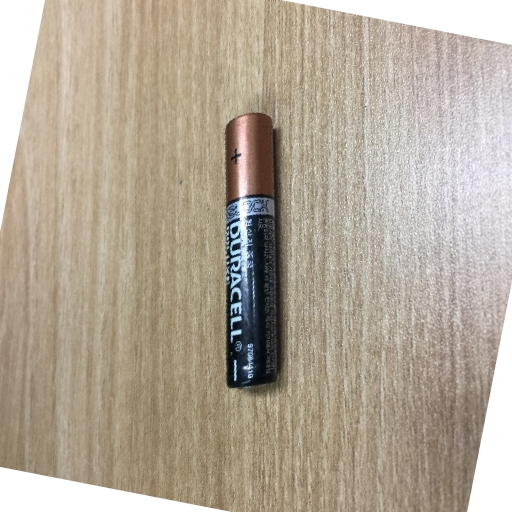Battery_0: (202, 96, 293, 405)
